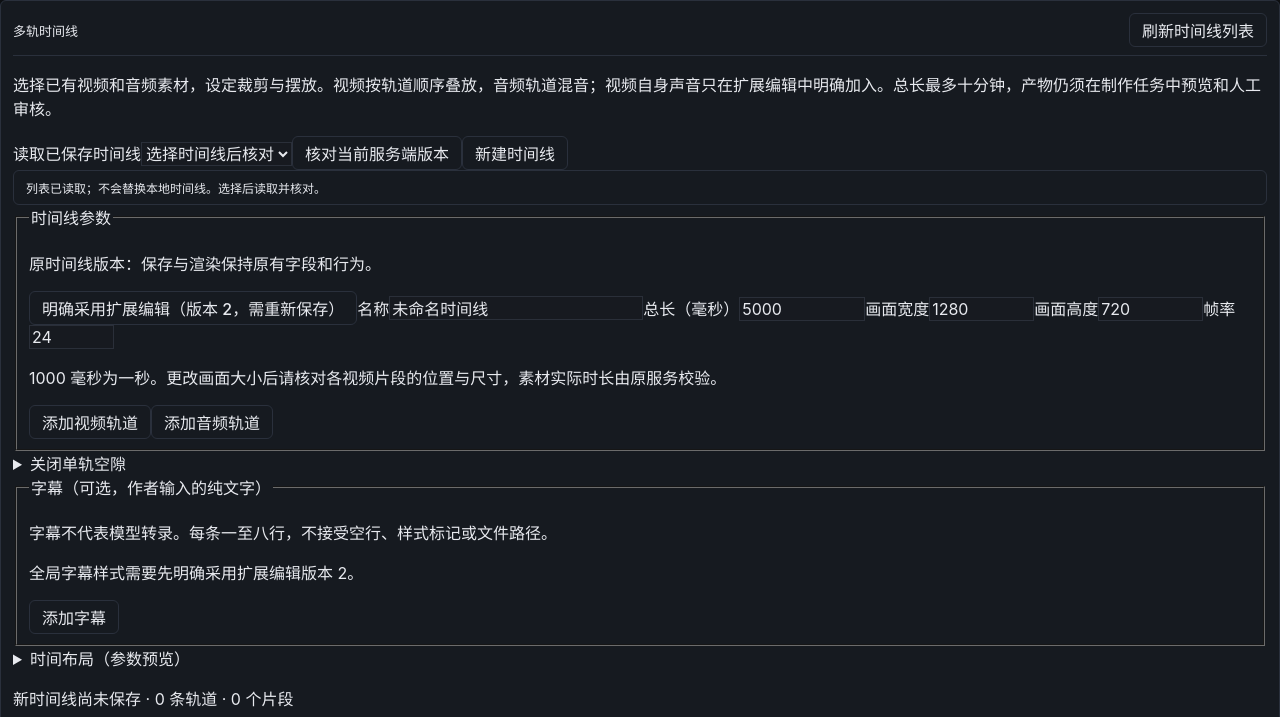
Test: validates caption updates through original owner and retires stale index commands
Select "Replacement · v1" in the dropdown labelled "读取已保存时间线" at (216, 154), box [141, 142, 292, 166]
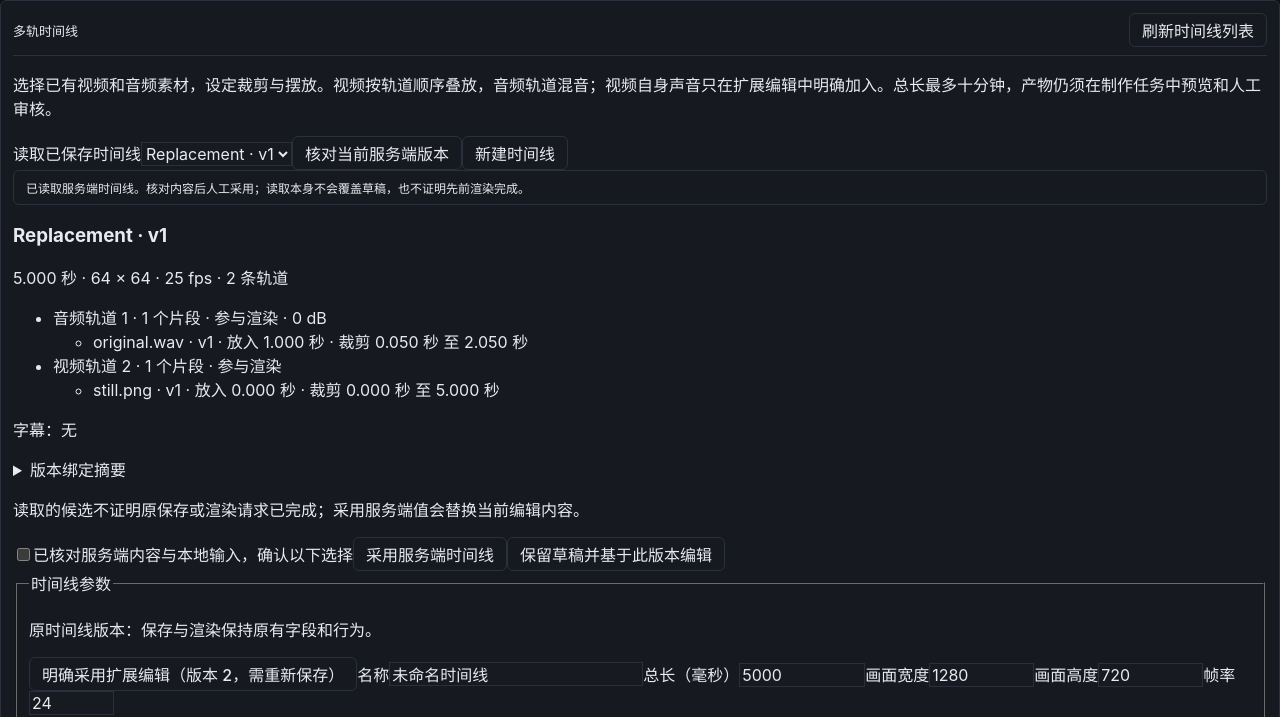
Check: the heading "Replacement · v1" is shown, box [13, 224, 167, 247]
Click the checkbox labelled "已核对服务端内容与本地输入，确认以下选择".
click(24, 555)  # box [17, 548, 30, 561]
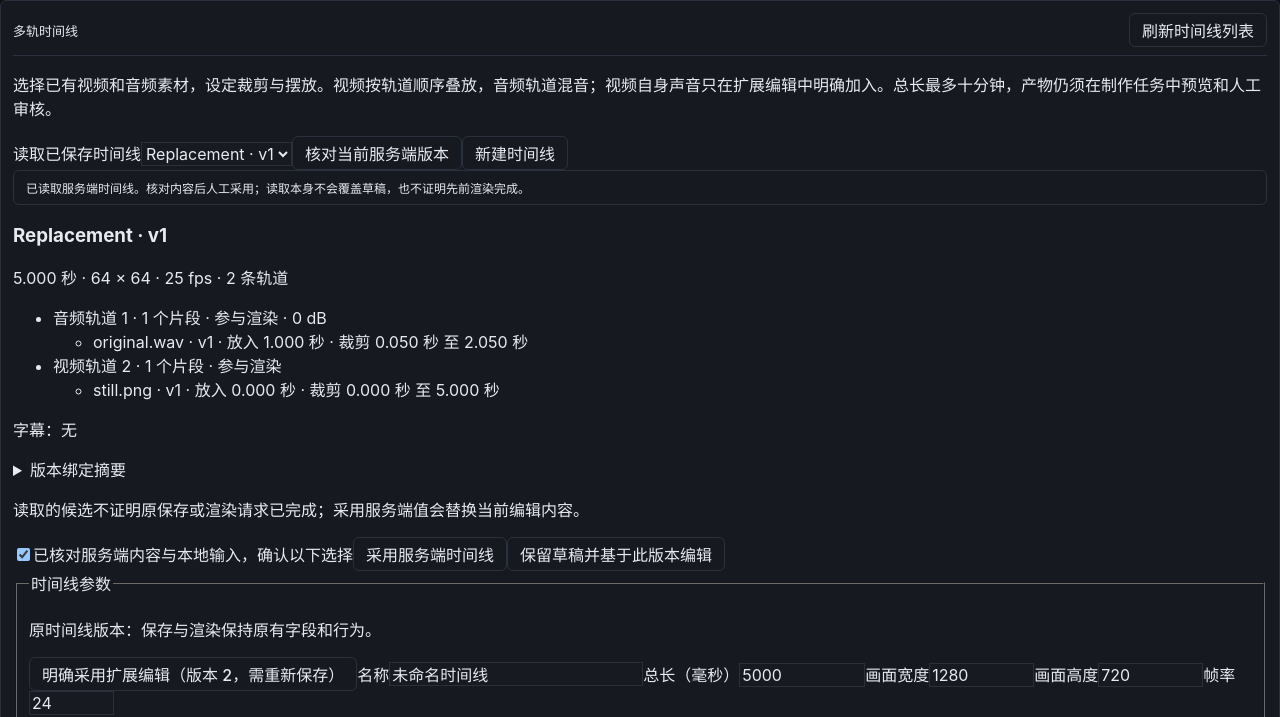
Click the button "采用服务端时间线".
click(430, 554)  # box [353, 537, 507, 571]
(page scrolled)
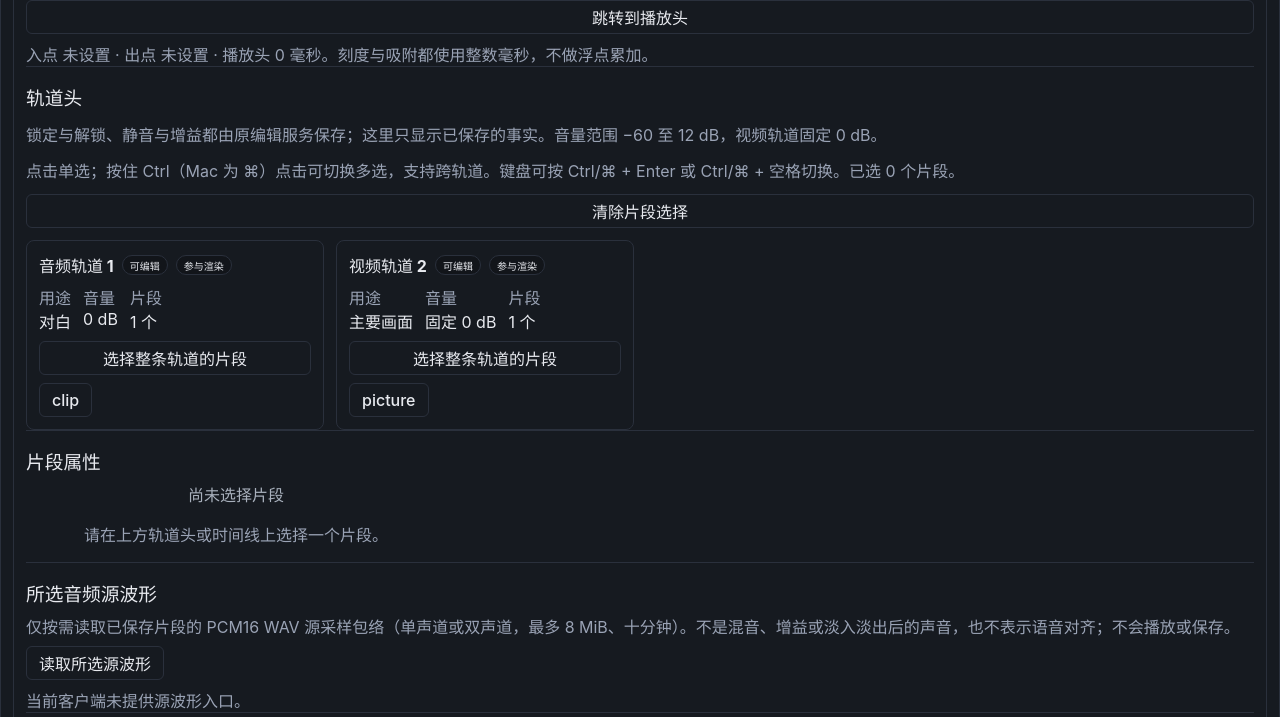
Click the button "clip".
click(66, 400)  # box [39, 383, 92, 417]
(page scrolled)
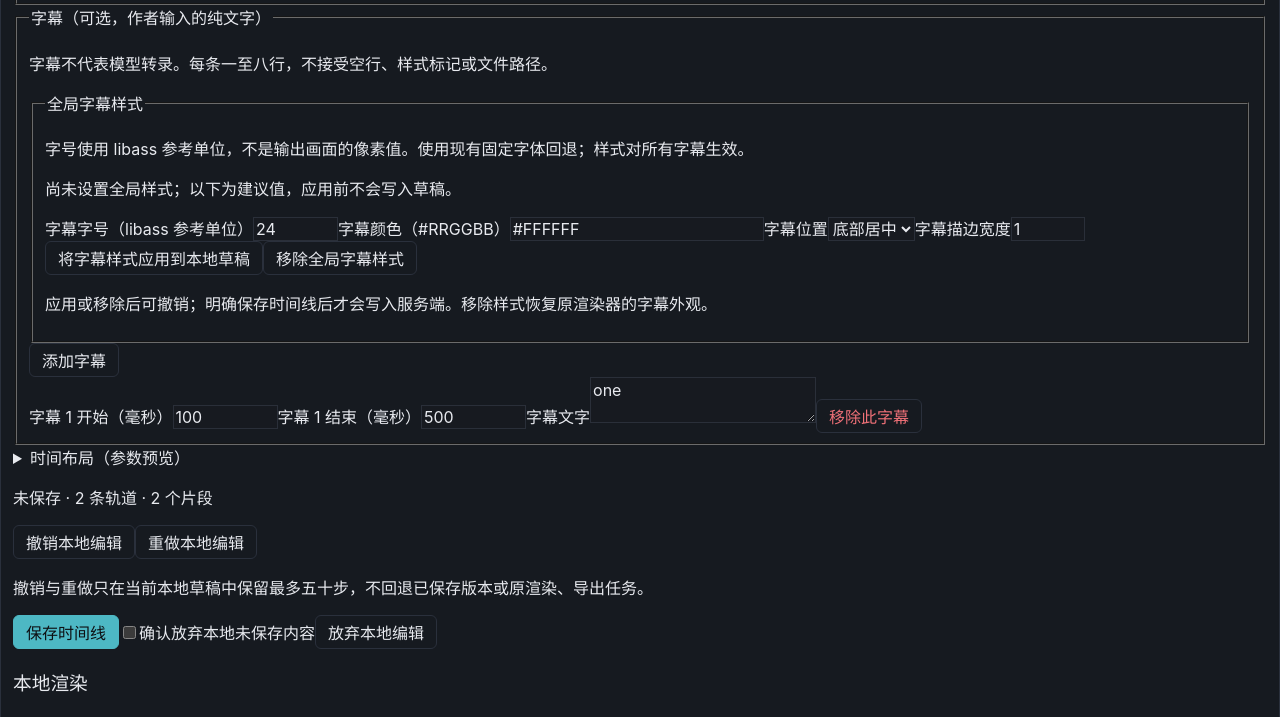
Check: the text box labelled "字幕文字" holds "one", box [590, 377, 816, 423]
